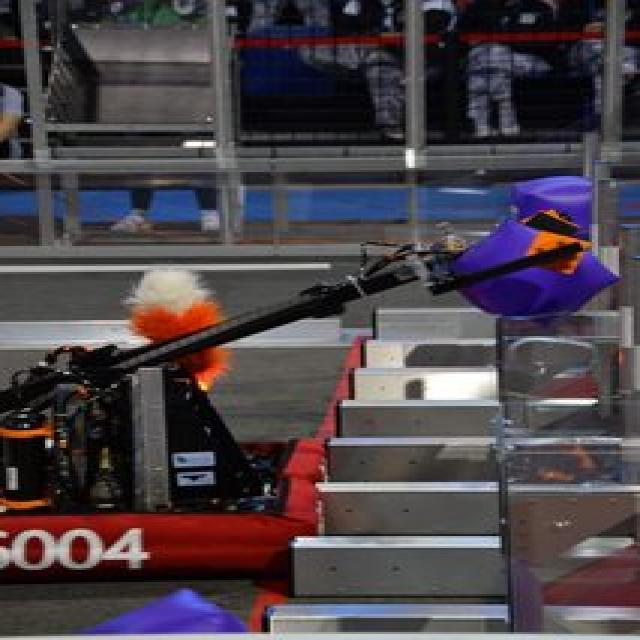robot: (0, 124, 625, 578)
